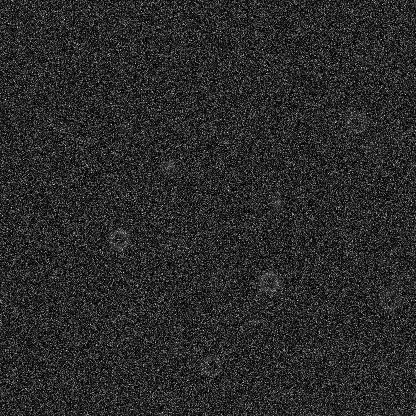Ring: (256, 270, 280, 294), (162, 234, 186, 258), (364, 137, 388, 161), (106, 226, 130, 250), (378, 288, 402, 312), (199, 353, 223, 377), (209, 266, 233, 290), (344, 110, 368, 134)
Spot: (116, 120, 132, 136), (268, 194, 284, 210), (277, 51, 293, 67), (245, 310, 261, 326), (160, 158, 176, 174), (59, 118, 75, 134)
